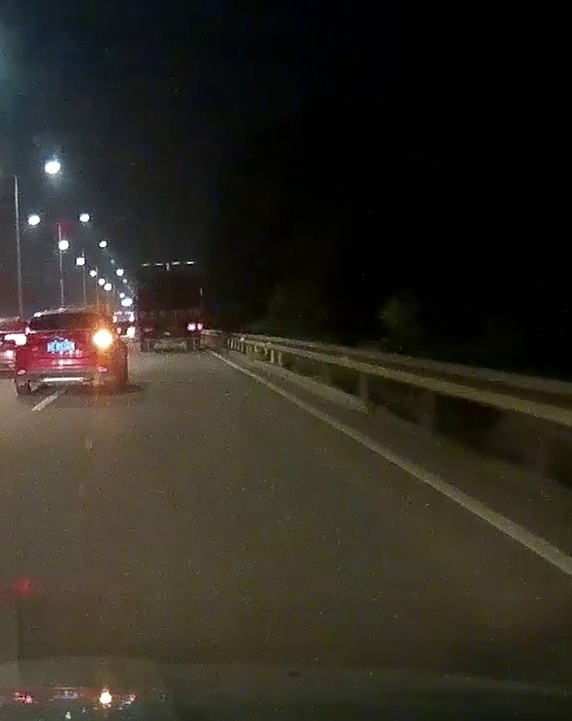L_light: (14, 333, 36, 349), (140, 325, 155, 333)
R_light: (90, 328, 113, 349), (186, 323, 203, 331)
T_light: (52, 311, 73, 317), (160, 261, 174, 267)
night-no: (136, 256, 203, 349)
night-right: (13, 306, 118, 392)
